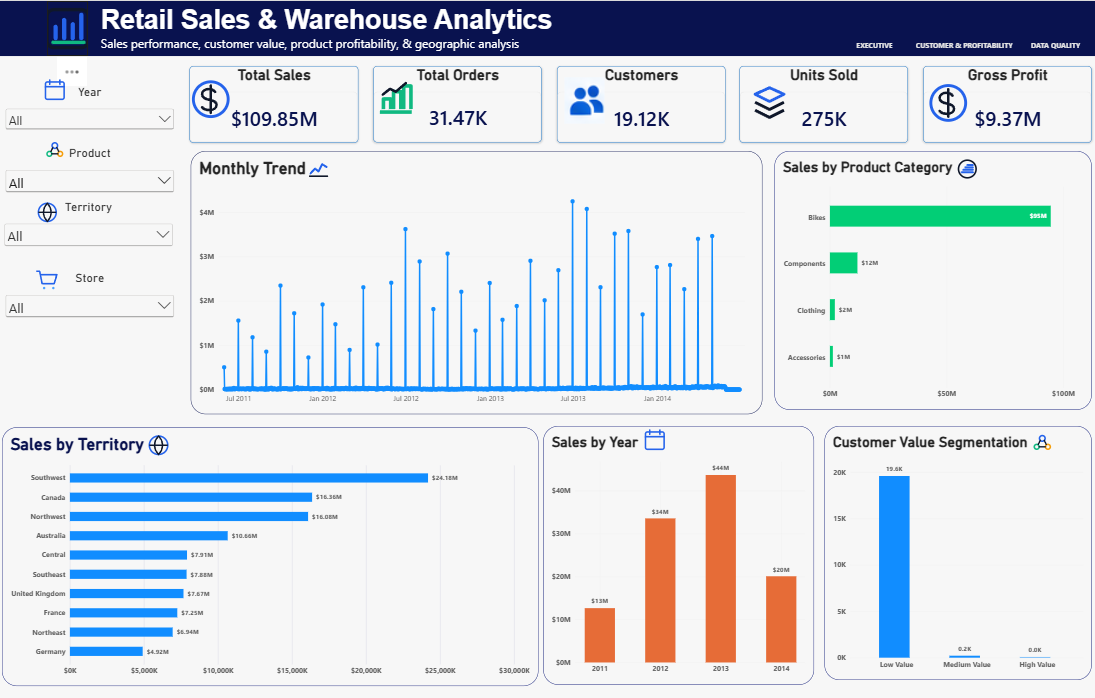

Layout of this report page (visuals, bound fields, positions):
{"tool":"powerbi","page":{"name":"Page 1","canvas":[2200,1400],"ordinal":0},"visuals":[{"type":"shape","box":[0,0,2600,110.1],"z":0},{"type":"cardVisual","title":"Total Sales","fields":{"Data":["Fact Sales.Total Sales"]},"box":[385,130,337.4,153.6],"z":1000},{"type":"cardVisual","title":"Total Orders","fields":{"Data":["Fact Sales.Total Orders"]},"box":[752.5,130,337,153],"z":2000},{"type":"cardVisual","title":"Customers","fields":{"Data":["Fact Sales.Total Customers"]},"box":[1120.8,130,337,153.6],"z":3000},{"type":"clusteredBarChart","title":"Sales by Territory","fields":{"Category":["Dim Territory.territory_name"],"Y":["Fact Sales.Total Sales"]},"box":[10,852.5,1072.5,517.5],"z":4000},{"type":"textbox","box":[207.1,7.4,1200.8,120.8],"z":5000},{"type":"barChart","title":"Sales by Product Category","fields":{"Category":["Dim Product.category_name"],"Y":["Fact Sales.Total Sales"]},"box":[1556,299.6,634.6,517.7],"z":6000},{"type":"cardVisual","title":"Units Sold","fields":{"Data":["Fact Sales.Total Units Sold"]},"box":[1485.8,130,337,153.6],"z":7000},{"type":"cardVisual","title":"Gross Profit","fields":{"Data":["Fact Sales.Estimated Gross Profit"]},"box":[1851.7,130,337,153.6],"z":8000},{"type":"clusteredColumnChart","title":"Sales by Year","fields":{"Category":["Dim Date.year"],"Y":["Fact Sales.Total Sales"]},"box":[1092.7,849.4,541.6,517.7],"z":9000},{"type":"clusteredColumnChart","title":"Customer Value Segmentation","fields":{"Category":["Customer Segments.Customer Segment"],"Y":["Customer Segments.Customer Count by Segment"]},"box":[1654.2,851,534.4,508.2],"z":10000},{"type":"slicer","title":"Year","fields":{"Values":["Dim Date.year"]},"box":[12.6,168.7,345.9,150.3],"z":11000},{"type":"slicer","title":"Product","fields":{"Values":["Dim Product.category_name"]},"box":[12.2,289.6,346.7,106.7],"z":12000},{"type":"slicer","title":"Territory","fields":{"Values":["Dim Territory.territory_name"]},"box":[10.1,397,346.7,123.3],"z":13000},{"type":"lineChart","title":"Monthly Trend","fields":{"Category":["Dim Date.date"],"Y":["Fact Sales.Total Sales"]},"box":[387.7,299.6,1143.1,526.2],"z":14000},{"type":"image","box":[100,0,82.5,110],"z":15000},{"type":"image","box":[387.5,150,80,92.5],"z":16000},{"type":"image","box":[758.3,153.3,80,92.5],"z":17000},{"type":"image","box":[298.3,852.5,51.4,71.4],"z":18000},{"type":"image","box":[618.3,300,51.4,71.4],"z":19000},{"type":"image","box":[1915,300,51.4,71.4],"z":20000},{"type":"image","box":[2065.7,850,51.4,71.4],"z":21000},{"type":"image","box":[90.6,153.6,51.2,50],"z":22000},{"type":"image","box":[75.5,397.8,51.2,50],"z":23000},{"type":"image","box":[90,275,51.2,50],"z":24000},{"type":"slicer","title":"Store","fields":{"Values":["Dim Store.store_name"]},"box":[12.5,540,346.7,123.3],"z":25000},{"type":"image","box":[75,532.5,51,50.8],"z":26000},{"type":"image","box":[1134,153,80,92.5],"z":27000},{"type":"image","box":[1862,158,80,92.5],"z":28000},{"type":"image","box":[1504,158,80,92.5],"z":29000},{"type":"actionButton","title":"Analyze","box":[1700.9,64.5,110,45.5],"z":30000},{"type":"actionButton","title":"Analyze","box":[1825.5,64.5,219.1,45.5],"z":31000},{"type":"actionButton","title":"Analyze","box":[2035.5,65.5,164.5,45.5],"z":32000},{"type":"image","box":[1290,852.5,51.2,50],"z":33000}]}

Visuals, with their boxes in screenshot pixels (x1, y1, x2, y2), scaled from the page's 2200x1400 canvas onto the 1095x698 screenshot:
shape: BBox(0, 0, 1094, 55)
"Total Sales" cardVisual: BBox(192, 65, 360, 141)
"Total Orders" cardVisual: BBox(375, 65, 542, 141)
"Customers" cardVisual: BBox(558, 65, 726, 141)
"Sales by Territory" clusteredBarChart: BBox(5, 425, 539, 683)
textbox: BBox(103, 4, 701, 64)
"Sales by Product Category" barChart: BBox(774, 149, 1090, 407)
"Units Sold" cardVisual: BBox(740, 65, 907, 141)
"Gross Profit" cardVisual: BBox(922, 65, 1089, 141)
"Sales by Year" clusteredColumnChart: BBox(544, 423, 813, 682)
"Customer Value Segmentation" clusteredColumnChart: BBox(823, 424, 1089, 678)
"Year" slicer: BBox(6, 84, 178, 159)
"Product" slicer: BBox(6, 144, 179, 198)
"Territory" slicer: BBox(5, 198, 178, 259)
"Monthly Trend" lineChart: BBox(193, 149, 762, 412)
image: BBox(50, 0, 91, 55)
image: BBox(193, 75, 233, 121)
image: BBox(377, 76, 417, 123)
image: BBox(148, 425, 174, 461)
image: BBox(308, 150, 333, 185)
image: BBox(953, 150, 979, 185)
image: BBox(1028, 424, 1054, 459)
image: BBox(45, 77, 71, 102)
image: BBox(38, 198, 63, 223)
image: BBox(45, 137, 70, 162)
"Store" slicer: BBox(6, 269, 179, 331)
image: BBox(37, 265, 63, 291)
image: BBox(564, 76, 604, 122)
image: BBox(927, 79, 967, 125)
image: BBox(749, 79, 788, 125)
"Analyze" actionButton: BBox(847, 32, 901, 55)
"Analyze" actionButton: BBox(909, 32, 1018, 55)
"Analyze" actionButton: BBox(1013, 33, 1094, 55)
image: BBox(642, 425, 668, 450)
